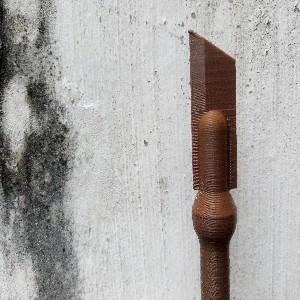cutter: (188, 29, 239, 300)
